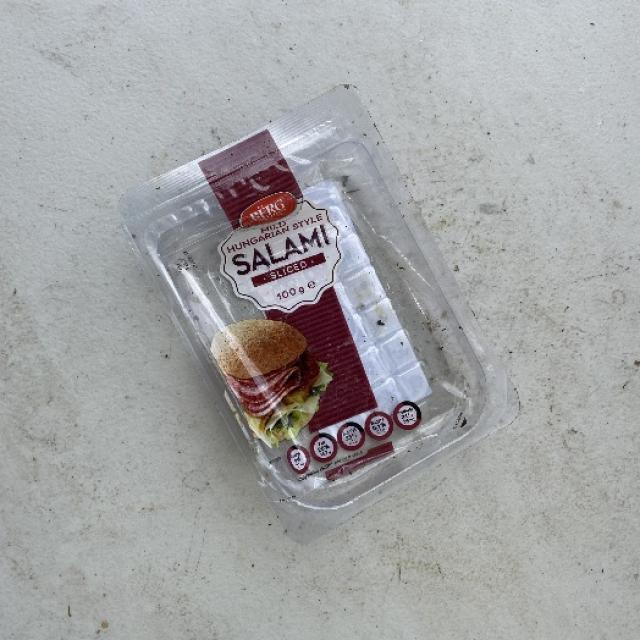plastic: (117, 82, 519, 529)
